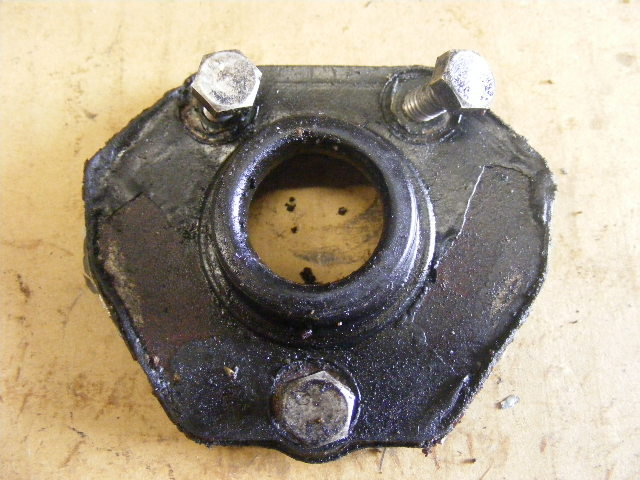bolt_a: (273, 368, 357, 454), (427, 45, 501, 118), (189, 47, 265, 118)
